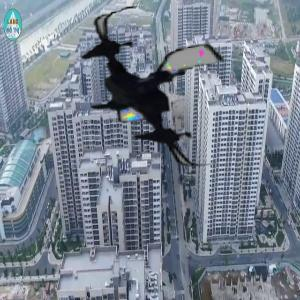drone: (67, 4, 237, 174)
